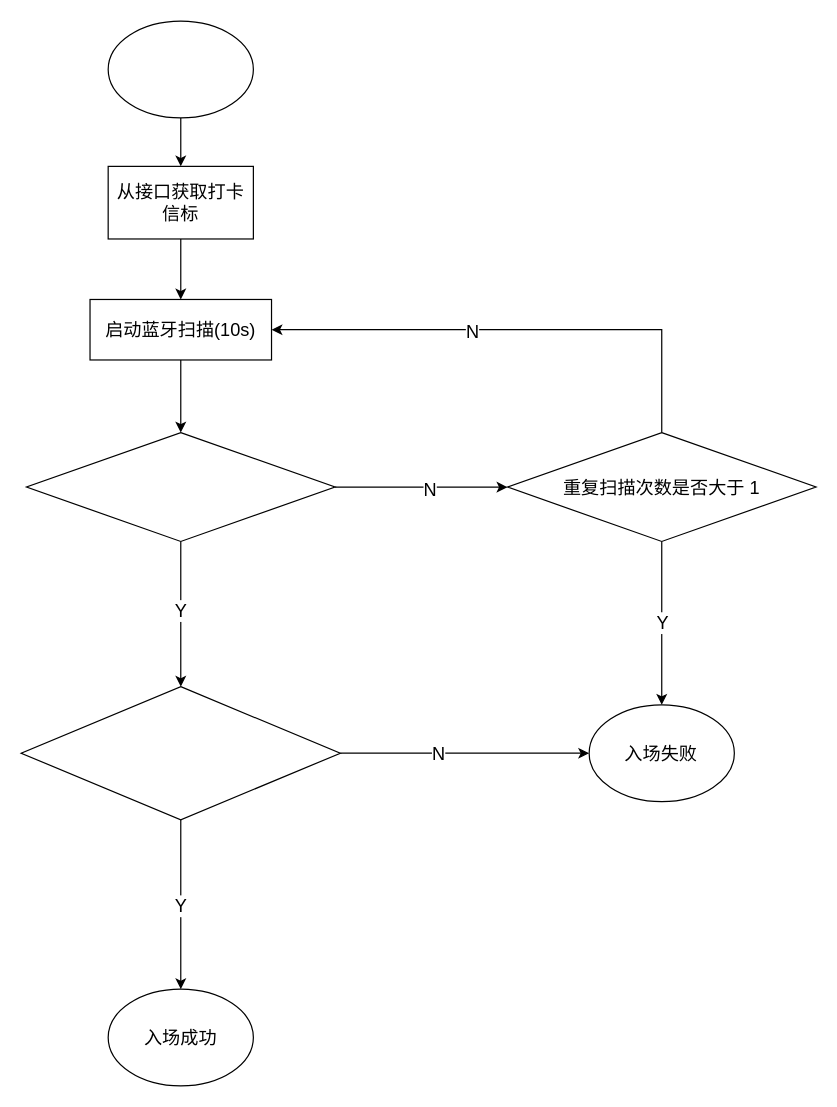
Image size: 837x1107. Some labels were removed from this diagram. The shapes that lost their labels are listed below. From the top down, each one's box as (x1, y1, x2, y2) in pixels, then its label:
(107, 20, 253, 118): 点击入场
(25, 431, 335, 541): 是否扫描到打卡信标？
(20, 685, 340, 820): 网络上报 nfc 事件，是否上报成功
